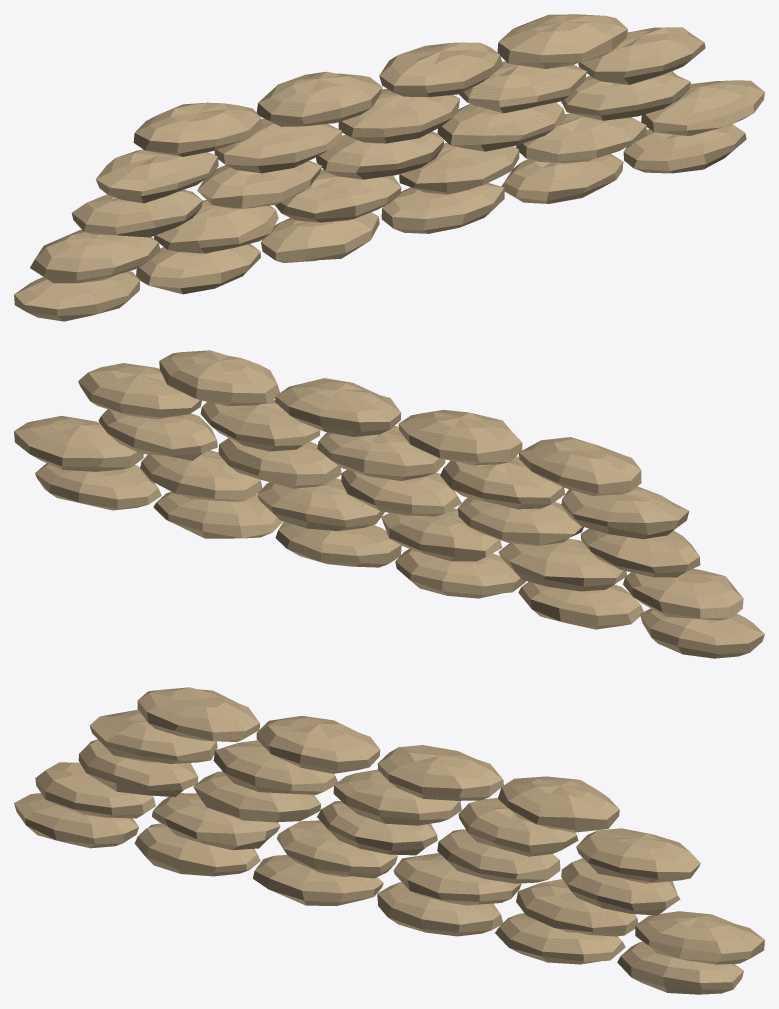
The model's file is sandbags.glb.
3 renders of one model, top to bottom at view 1: azimuth 30°, elevation 25°; view 2: azimuth 150°, elevation 25°; view 3: azimuth 330°, elevation 25°, orthographic.
Visible parts, largest first — view 1: sandbags; view 2: sandbags; view 3: sandbags.
Boxes of the visible parts, box(x1,y1,x2,y2) form: sandbags: box(14, 14, 764, 321); sandbags: box(14, 350, 764, 658); sandbags: box(14, 687, 764, 994).
Size of the model in its own units: 2.08 by 0.4659 by 0.2061.
Materials: 1 (1 with a texture image).
